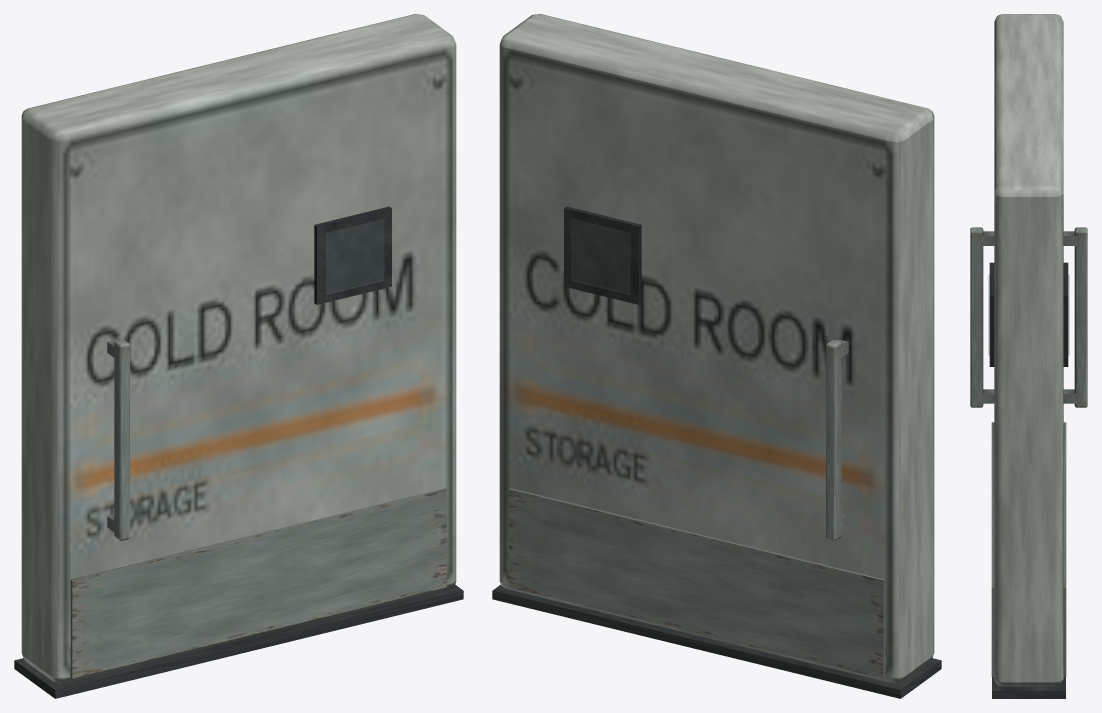
Rendered from freezer_door.glb.
3 views of the same model, side by side, from view 1: azimuth 30°, elevation 25°; view 2: azimuth 150°, elevation 25°; view 3: azimuth 270°, elevation 25° (orthographic). The views are drawn at different scales.
Visible parts, largest first — view 1: FreezerDoor; view 2: FreezerDoor; view 3: FreezerDoor.
Part boxes in pixels (bbox=[...]): FreezerDoor: bbox=[14, 14, 463, 698]; FreezerDoor: bbox=[492, 14, 941, 698]; FreezerDoor: bbox=[970, 14, 1087, 698].
Size of the model in its own units: 1.96 by 2.58 by 0.54.
2 materials, 1 textured.
